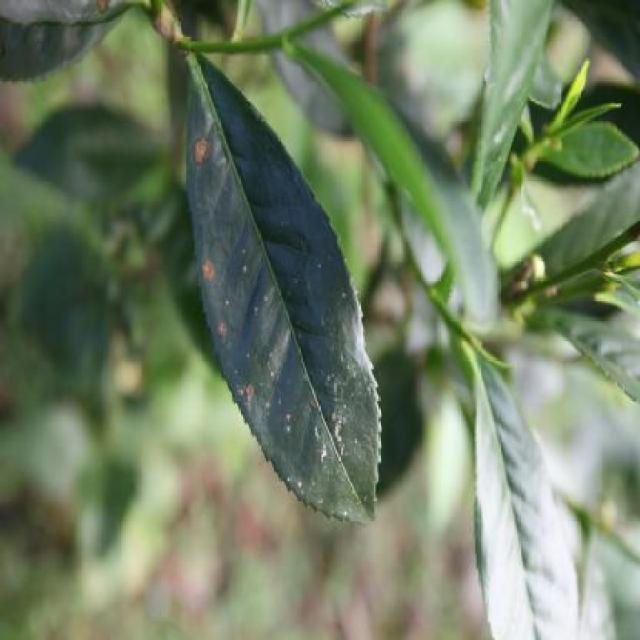Leaf rust of tea: (148, 41, 406, 534)
